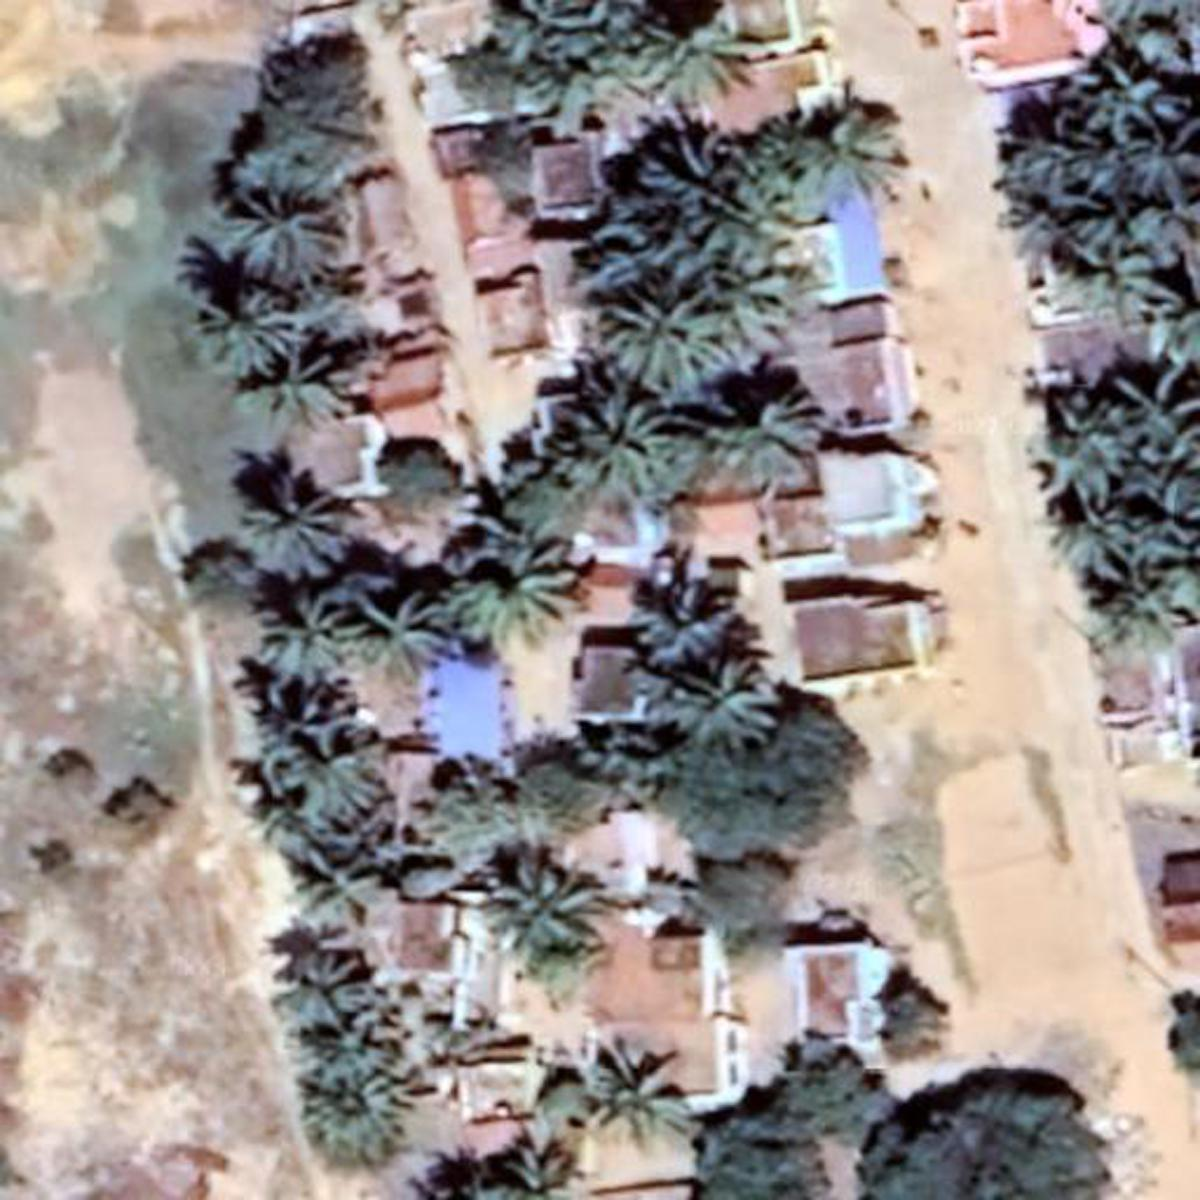coconut: (712, 382, 843, 499), (796, 100, 921, 213), (236, 478, 365, 581), (574, 1038, 698, 1143), (447, 555, 611, 632), (600, 297, 727, 393), (267, 724, 398, 816), (260, 569, 363, 686), (278, 841, 412, 927), (499, 848, 609, 953), (229, 351, 358, 438), (300, 1068, 419, 1164), (234, 187, 365, 269), (998, 147, 1113, 234), (1026, 410, 1120, 516), (564, 403, 677, 487), (353, 584, 457, 673), (1108, 363, 1200, 462), (284, 944, 379, 1038), (663, 670, 780, 745), (180, 297, 311, 363), (632, 584, 735, 660), (1068, 238, 1167, 316), (1082, 56, 1176, 138), (473, 1136, 585, 1197), (1096, 571, 1178, 646), (635, 27, 745, 82), (1115, 138, 1192, 199), (1136, 478, 1200, 546)
